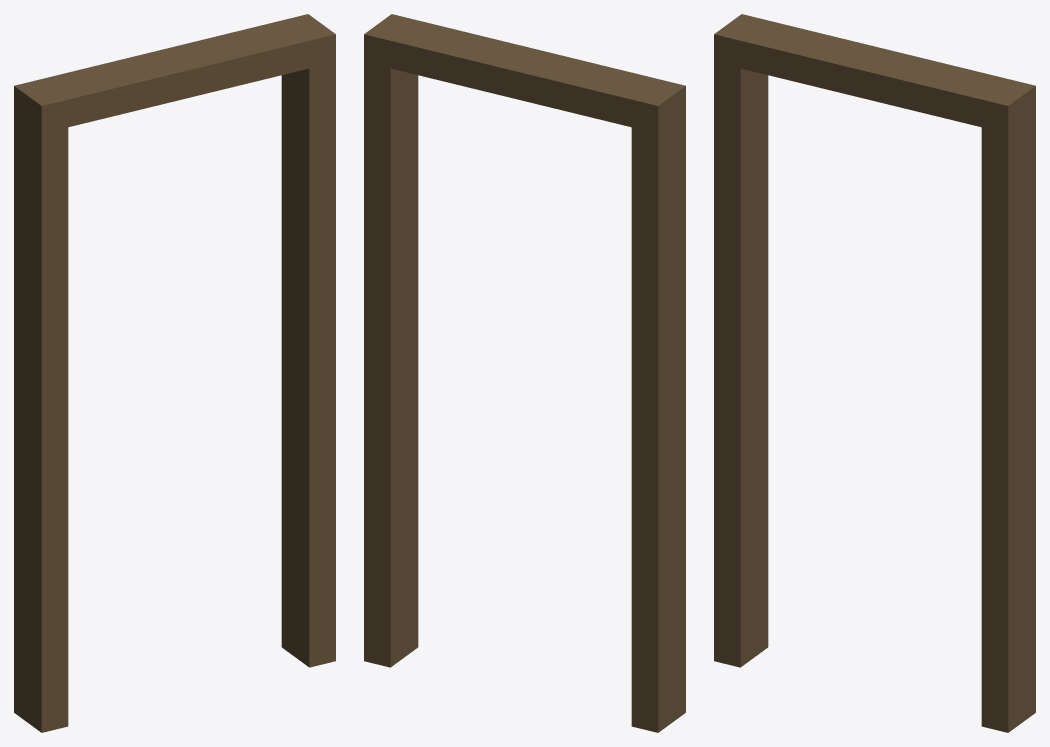
File: DoorFrame_03.fbx
The picture shows the model from 3 angles, left to right: view 1: azimuth 30°, elevation 25°; view 2: azimuth 150°, elevation 25°; view 3: azimuth 330°, elevation 25°; orthographic projection.
Parts seen in each view (by area): view 1: DoorFrame_03; view 2: DoorFrame_03; view 3: DoorFrame_03.
Boxes of the visible parts, box(x1,y1,x2,y2) form: DoorFrame_03: box(14, 14, 335, 732); DoorFrame_03: box(364, 14, 685, 732); DoorFrame_03: box(714, 14, 1035, 732).
Size of the model in its own units: 111 by 226 by 18.12.
